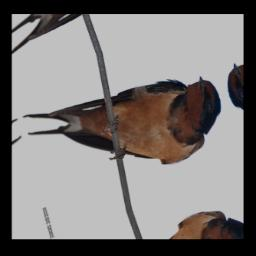Swallow: (21, 44, 233, 213)
